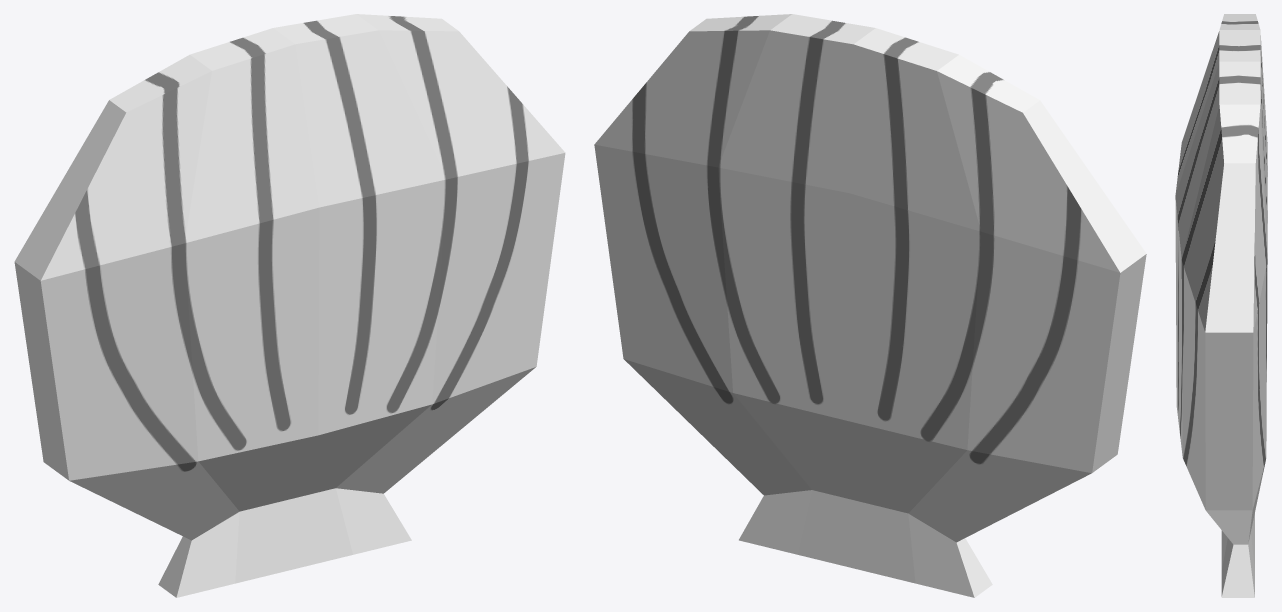
The model's file is shell.obj.
3 renders of one model, left to right at view 1: azimuth 30°, elevation 25°; view 2: azimuth 150°, elevation 25°; view 3: azimuth 270°, elevation 25°, orthographic. The views are drawn at different scales.
Visible parts, largest first — view 1: Cube; view 2: Cube; view 3: Cube.
Boxes of the visible parts, x1,y1,x2,y2 form: Cube: (14,14,565,597); Cube: (594,14,1146,597); Cube: (1175,14,1267,597).
Bounding box in the file's own units: 0.4727 × 0.4525 × 0.0781.
